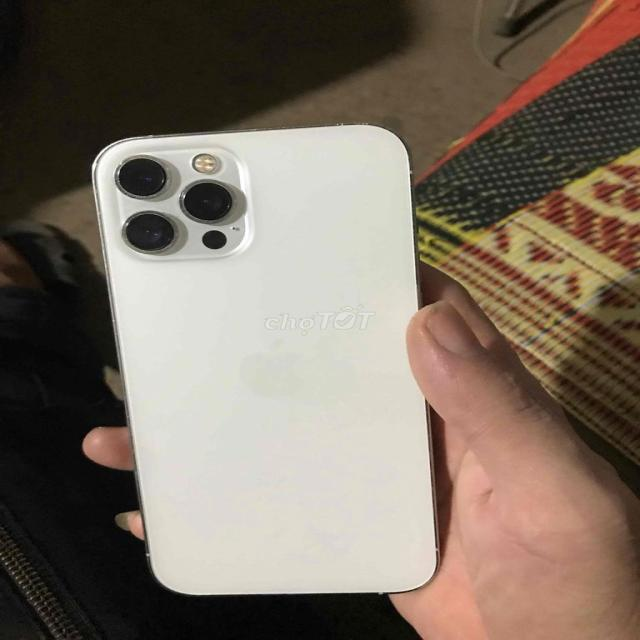gen_12_13: (73, 121, 466, 602)
